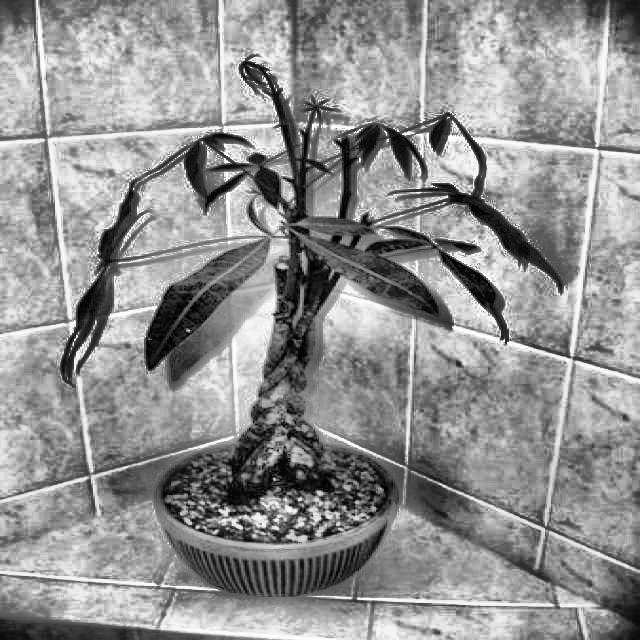plants: (62, 54, 566, 596), (92, 156, 155, 272)
